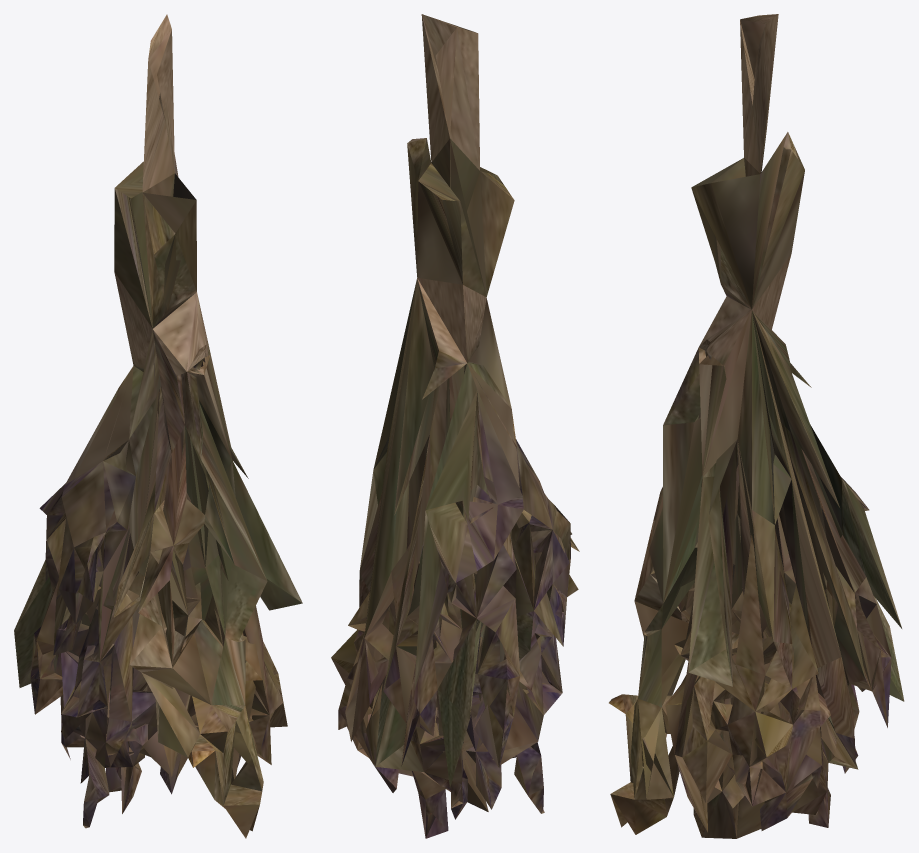
The model's file is up_herb_bundle.glb.
3 renders of one model, left to right at view 1: azimuth 30°, elevation 25°; view 2: azimuth 150°, elevation 25°; view 3: azimuth 270°, elevation 25°, orthographic. The views are drawn at different scales.
Visible parts, largest first — view 1: up_herb_bundle; view 2: up_herb_bundle; view 3: up_herb_bundle.
Boxes of the visible parts, box(x1,y1,x2,y2) form: up_herb_bundle: box(14, 14, 302, 838); up_herb_bundle: box(331, 14, 579, 838); up_herb_bundle: box(609, 14, 904, 838).
Size of the model in its own units: 0.1619 by 0.55 by 0.1781.
1 material, 1 textured.
